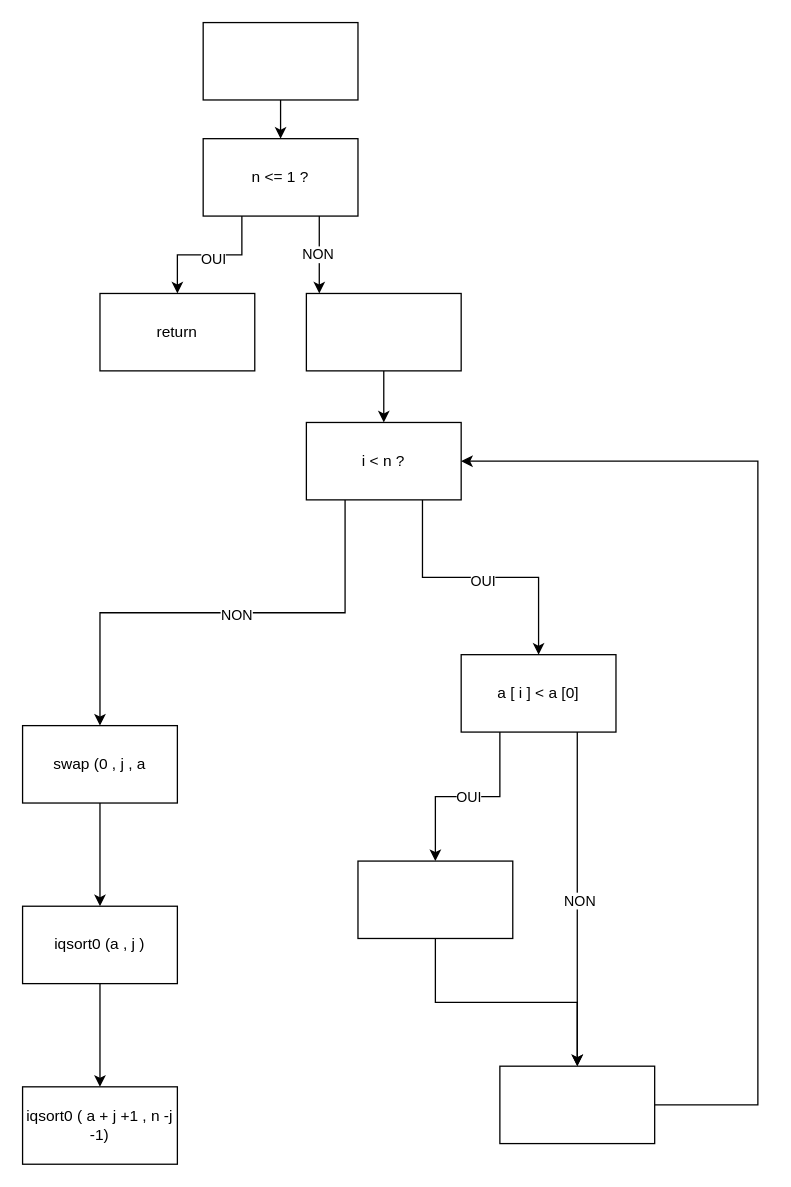
This 791x1187 diagram has some shape labels left out. The shapes that lost their labels are listed below. From the top down, each one's centre as x and y in pixels, then its label:
At pixel 280 60: "Debut".
At pixel 383 331: "i=1, j=0".
At pixel 435 899: "swap (++ j , i , a".
At pixel 577 1104: "i ++".
